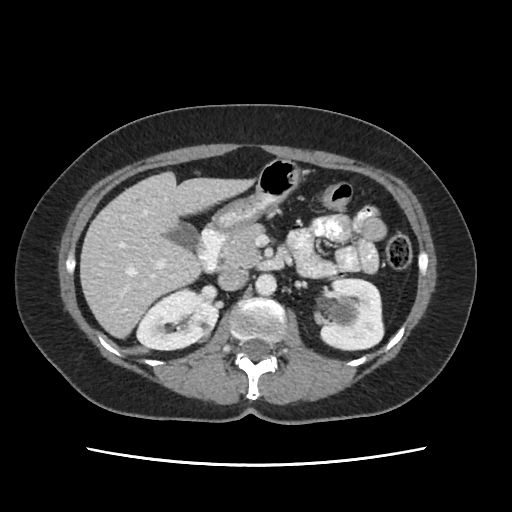Lesion: (327, 292, 363, 329)
